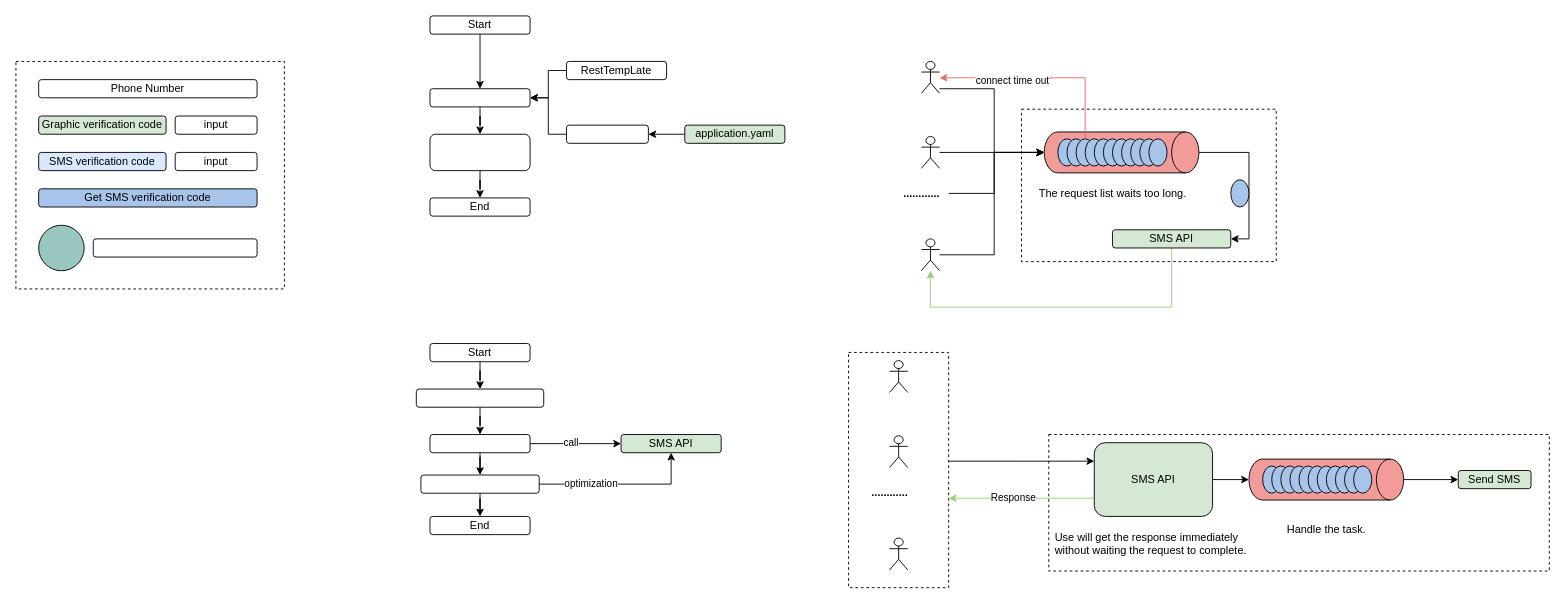
This 1565x604 diagram has some shape labels left out. The shapes that lost their labels are listed below. From the top down, each one's centre as x and y in pixels, then its label:
At pixel 479 97: "SmsComponent".
At pixel 479 152: "send verification code".
At pixel 607 133: "SmsConfig".
At pixel 61 247: "avatar".
At pixel 174 247: "Sign up".
At pixel 479 397: "Create Threads Group".
At pixel 479 443: "Add sample".
At pixel 479 483: "Add Aggregate Report".
